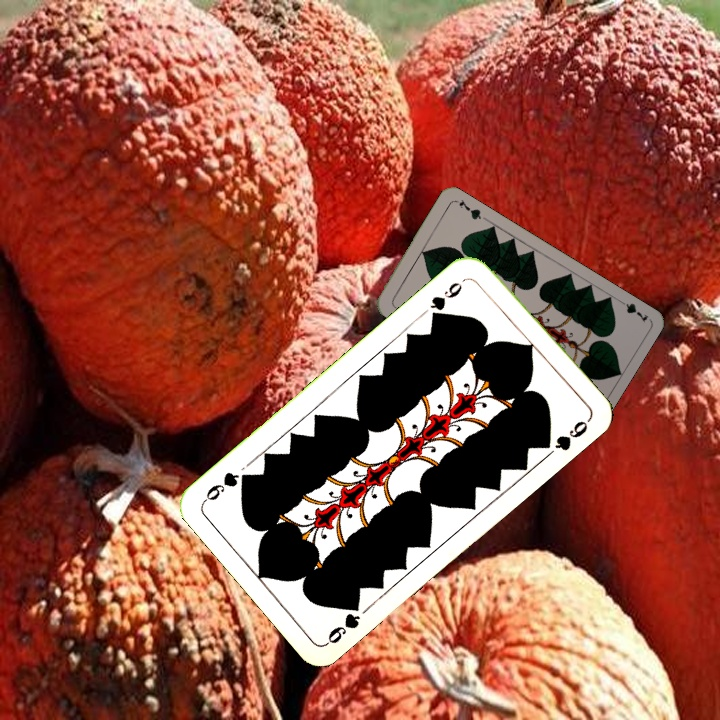G7: (613, 295, 651, 325)
G9: (322, 596, 363, 647), (426, 278, 465, 322)
